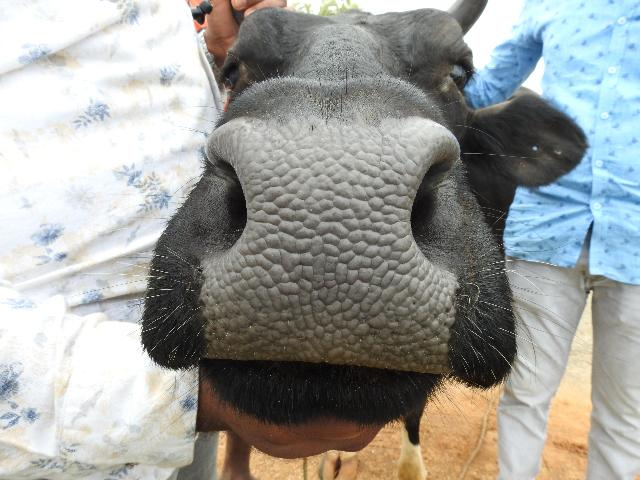Muzzle: (223, 125, 429, 372)
